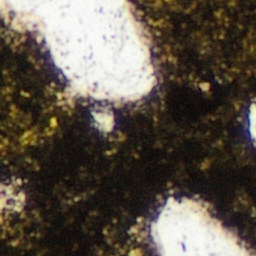cement_matrix: (0, 0, 255, 255), (93, 107, 114, 132)
gravel_crushed_stones: (0, 0, 156, 104), (148, 198, 253, 255), (0, 186, 22, 217), (94, 108, 113, 131), (248, 103, 255, 142), (131, 252, 138, 255)
